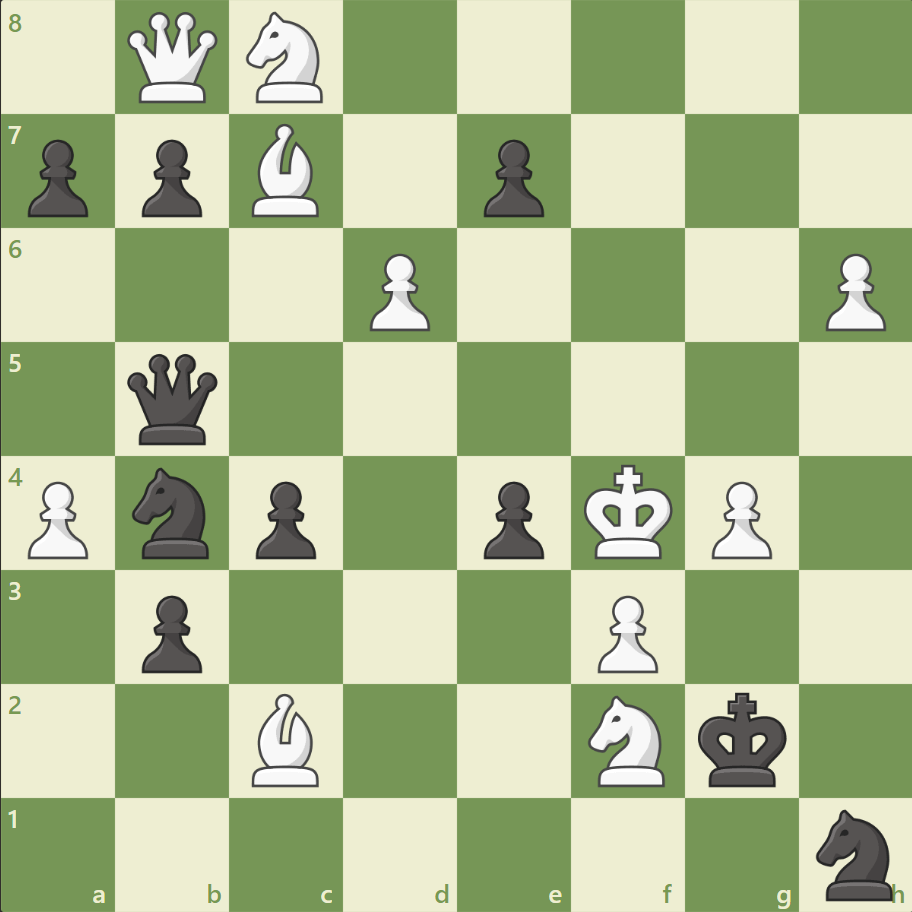B: (244, 687, 328, 790), (244, 120, 328, 222)
K: (579, 458, 679, 566)
N: (238, 7, 335, 110), (579, 688, 676, 791)
P: (20, 473, 95, 564), (701, 473, 776, 564), (361, 246, 435, 337), (815, 246, 889, 337), (588, 586, 662, 677)
Q: (124, 9, 223, 108)
k: (692, 685, 792, 793)
n: (124, 461, 222, 564), (806, 802, 903, 904)
p: (20, 132, 95, 223), (133, 132, 208, 223), (474, 132, 549, 223), (247, 473, 322, 564), (474, 473, 549, 564), (133, 586, 208, 677)
q: (124, 349, 223, 449)
